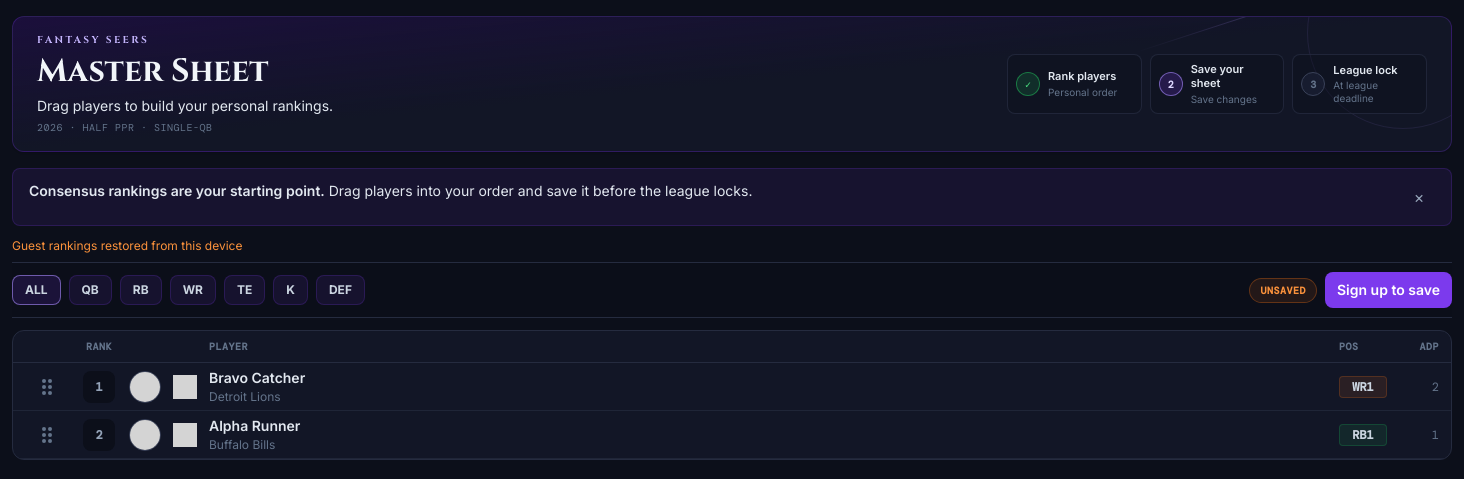
Test: MasterSheetPage › for guests › then signs in › keeps the saved rankings and the guest draft when asked to
Expected: the text "Guest rankings restored from this device" is shown, [12, 238, 242, 253]
Click the button "Sign up to save".
click(1388, 290)  # box [1325, 272, 1452, 308]
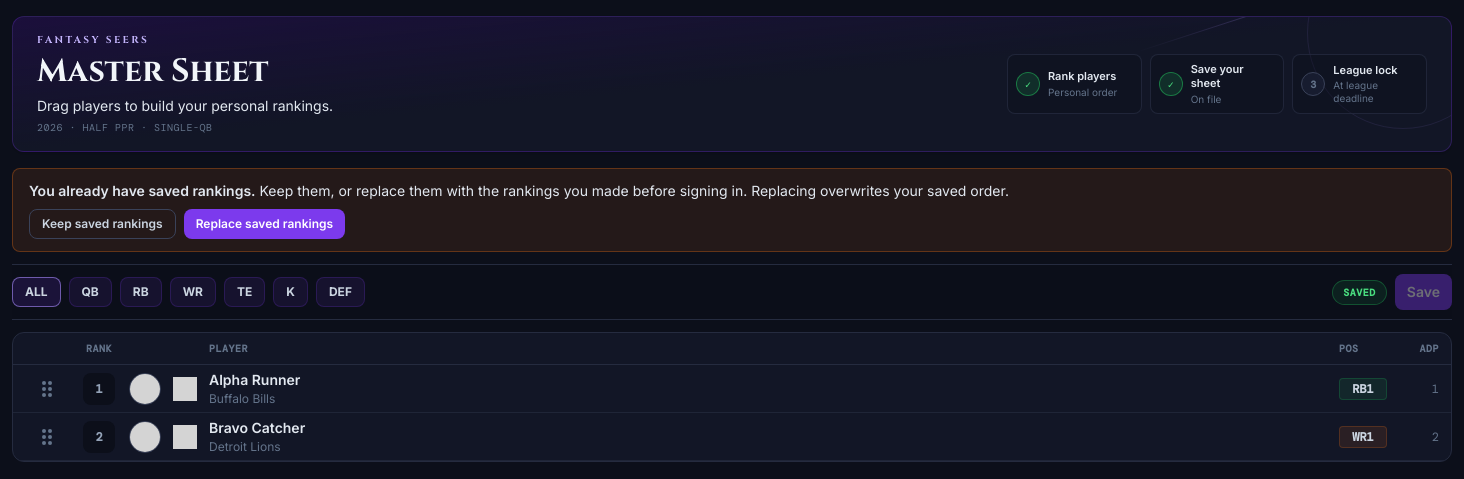
Click the button "Keep saved rankings".
click(102, 224)  # box [29, 209, 176, 239]
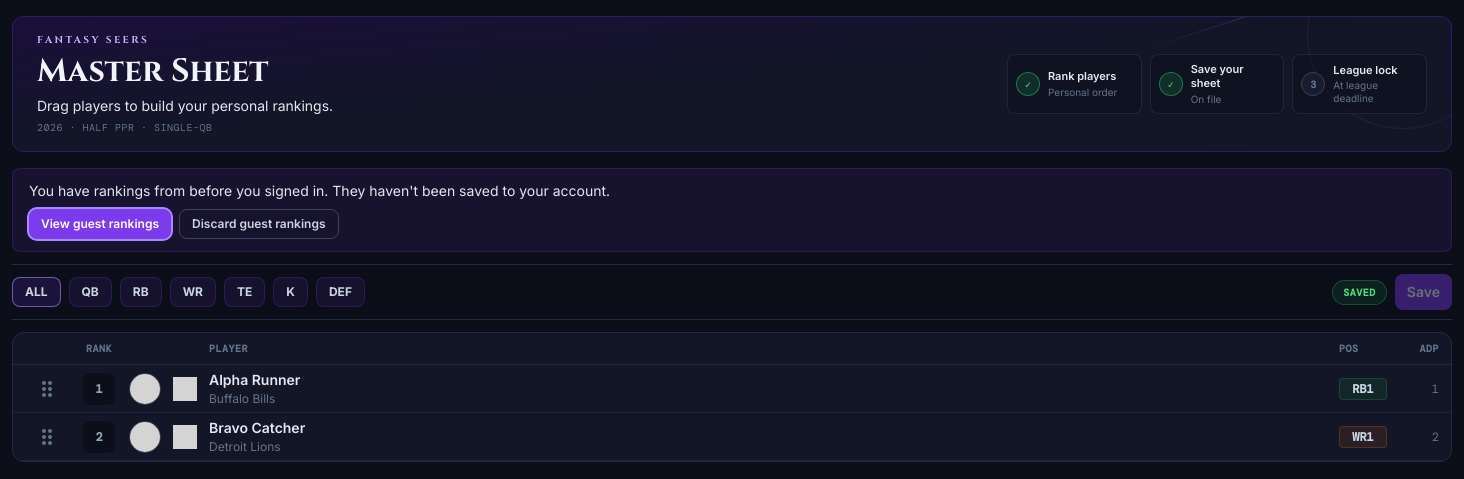
Expected: the button named "Move Alpha Runner, currently ranked 1" is shown, [25, 366, 69, 410]
Expected: the button "View guest rankings" is shown, [29, 209, 171, 239]
